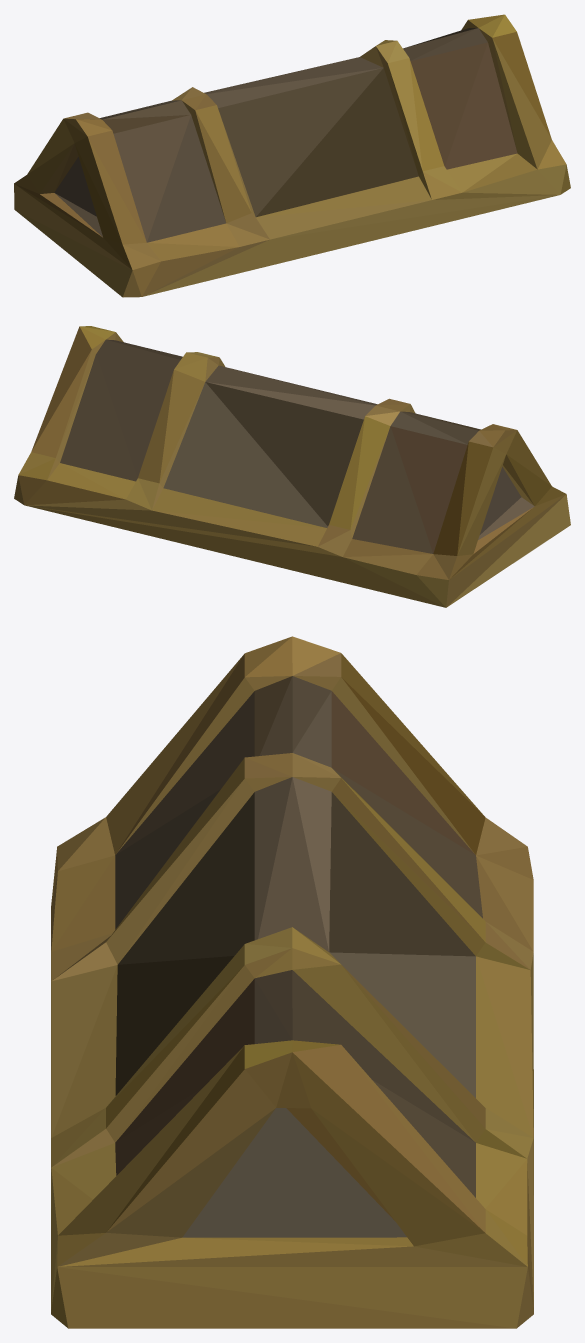
File: Chest-C_Top.fbx
The picture shows the model from 3 angles, top to bottom: view 1: azimuth 30°, elevation 25°; view 2: azimuth 150°, elevation 25°; view 3: azimuth 270°, elevation 25°; orthographic projection. The views are drawn at different scales.
Visible parts, largest first — view 1: Chest-C_Top; view 2: Chest-C_Top; view 3: Chest-C_Top.
Boxes of the visible parts, x1=… form: Chest-C_Top: x1=14, y1=14, x2=570, y2=297; Chest-C_Top: x1=14, y1=326, x2=570, y2=607; Chest-C_Top: x1=51, y1=636, x2=533, y2=1328.
Bounding box in the file's own units: 163 × 46.8 × 76.73.
